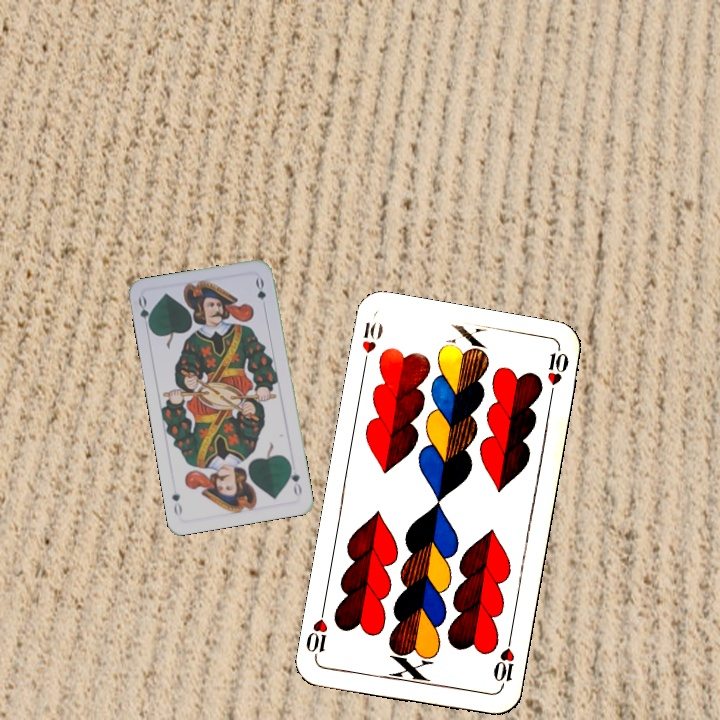GO: (134, 293, 154, 334), (285, 459, 304, 499)
H10: (489, 632, 517, 691), (358, 317, 386, 373)
